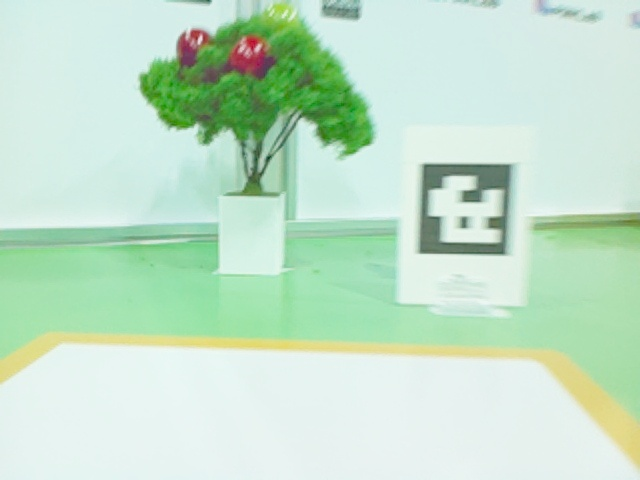apple: (222, 30, 278, 88), (172, 23, 212, 69)
